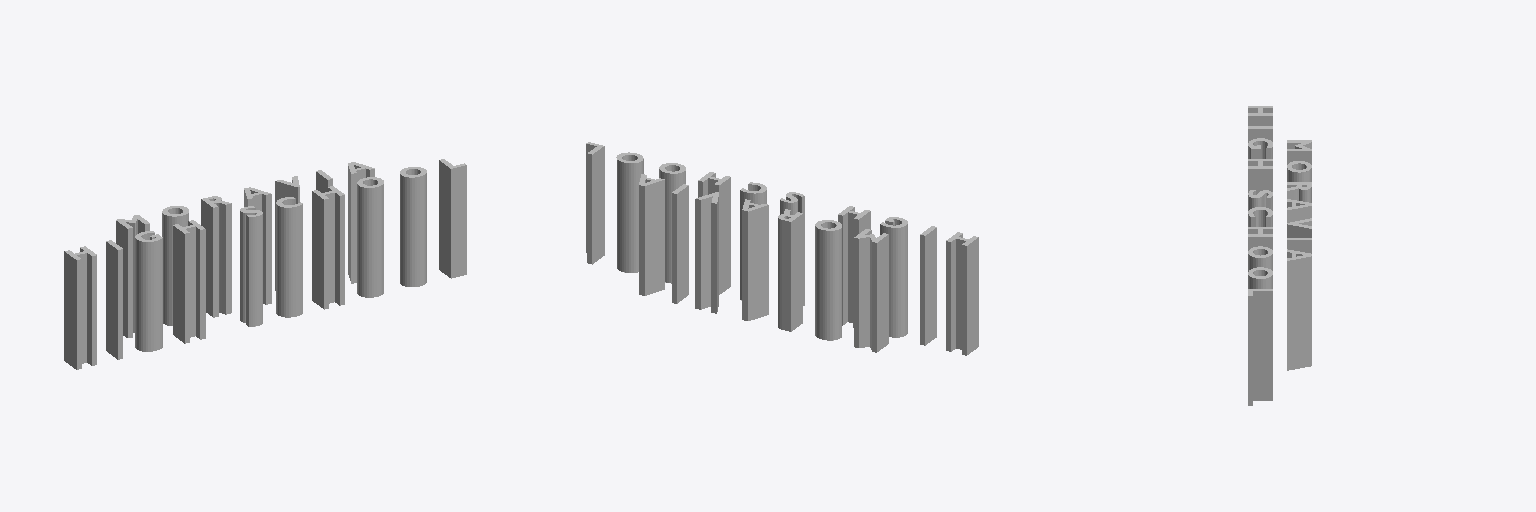
Rendered from moraviaText.obj.
3 views of the same model, side by side, from view 1: azimuth 30°, elevation 25°; view 2: azimuth 150°, elevation 25°; view 3: azimuth 270°, elevation 25° (orthographic).
Size of the model in its own units: 18.59 by 5 by 2.63.